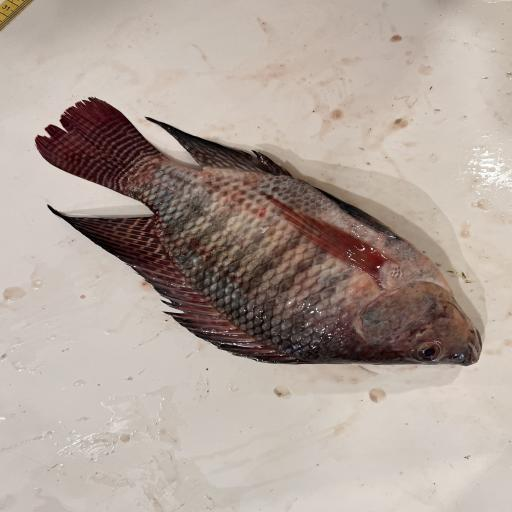Tilapia: (34, 96, 483, 368)
